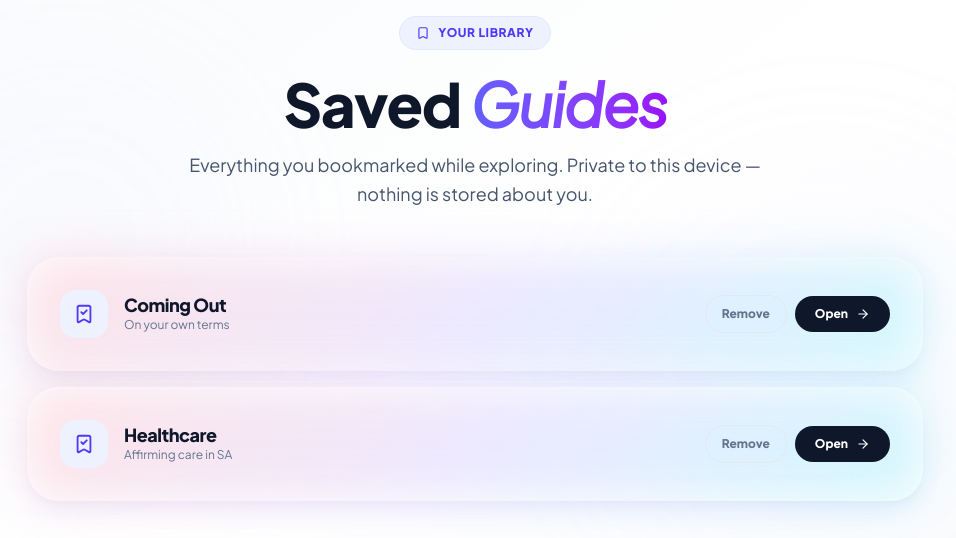
Test: SavedGuidesPage › lists saved guides and removes them
Expected: the heading "Coming Out" is shown, x1=124 y1=294 x2=230 y2=317
Expected: the heading "Healthcare" is shown, x1=124 y1=424 x2=232 y2=447
Click the button with aria-label "Remove Coming Out": click(746, 314) x1=705 y1=294 x2=787 y2=332
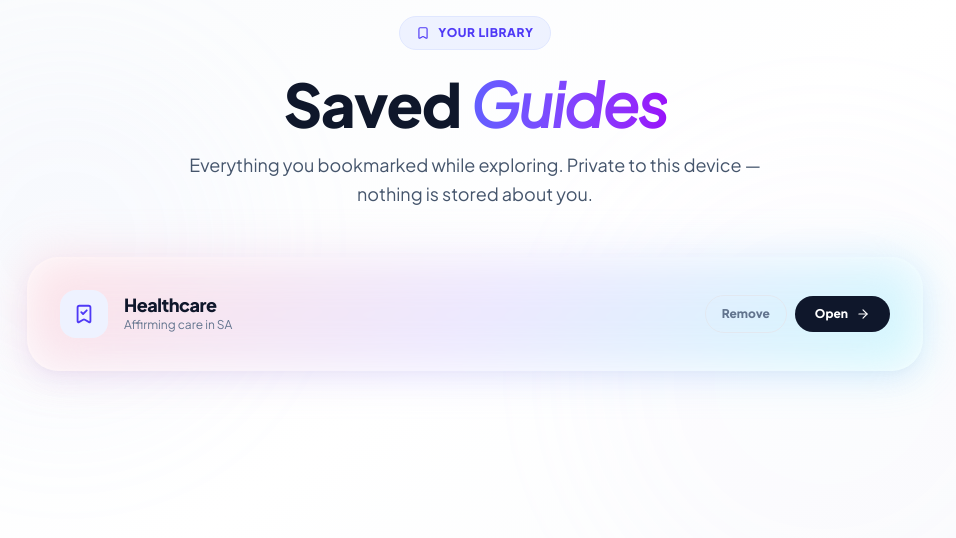
Expected: the heading "Coming Out" is gone
